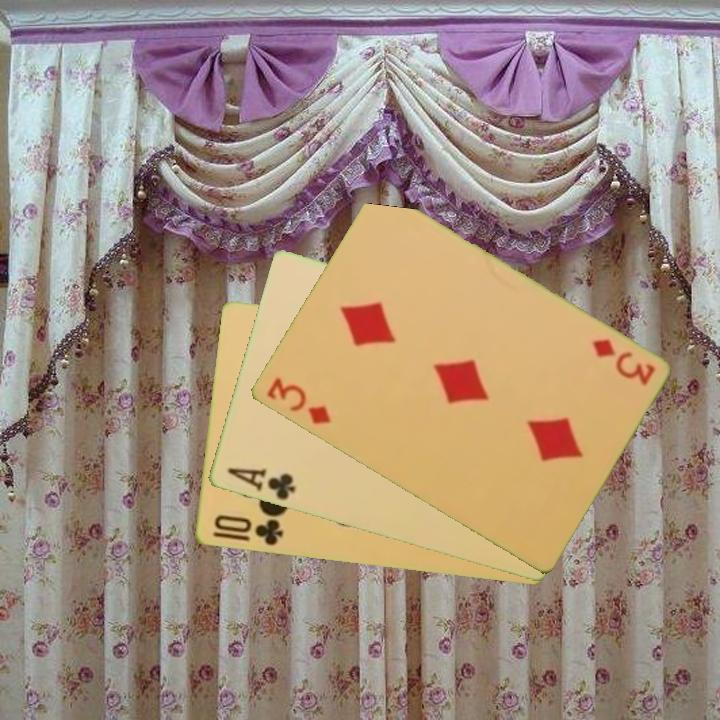10c: (210, 511, 286, 549)
3d: (262, 374, 334, 428), (588, 335, 658, 389)
Ac: (223, 464, 297, 504)
